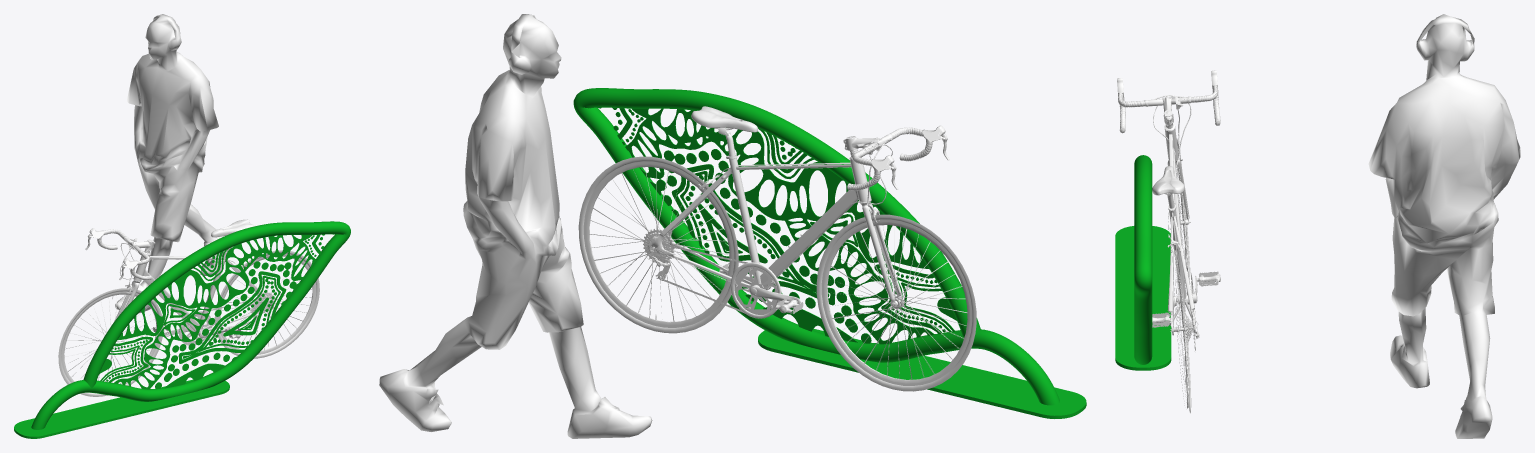
3 renders of one model, left to right at view 1: azimuth 30°, elevation 25°; view 2: azimuth 150°, elevation 25°; view 3: azimuth 270°, elevation 25°, orthographic. The views are drawn at different scales.
Visible parts, largest first — view 1: Object_006, Shape1, Line004, Bike2, Rectangle001; view 2: Object_006, Bike2, Shape1, Line004, Rectangle001; view 3: Object_006, Bike2, Rectangle001, Line004.
Part boxes in pixels (x1,y1,x2,y2): Object_006: (115, 14, 231, 313); Shape1: (99, 234, 333, 389); Line004: (31, 221, 350, 429); Bike2: (58, 219, 319, 396); Rectangle001: (14, 379, 229, 438); Object_006: (379, 14, 652, 438); Bike2: (578, 106, 976, 391); Shape1: (598, 107, 956, 344); Line004: (573, 88, 1059, 405); Rectangle001: (758, 328, 1086, 418); Object_006: (1368, 14, 1520, 438); Bike2: (1117, 70, 1220, 413); Rectangle001: (1115, 226, 1171, 370); Line004: (1134, 155, 1152, 364).
Size of the model in its own units: 2.43 by 1.9 by 1.81.
